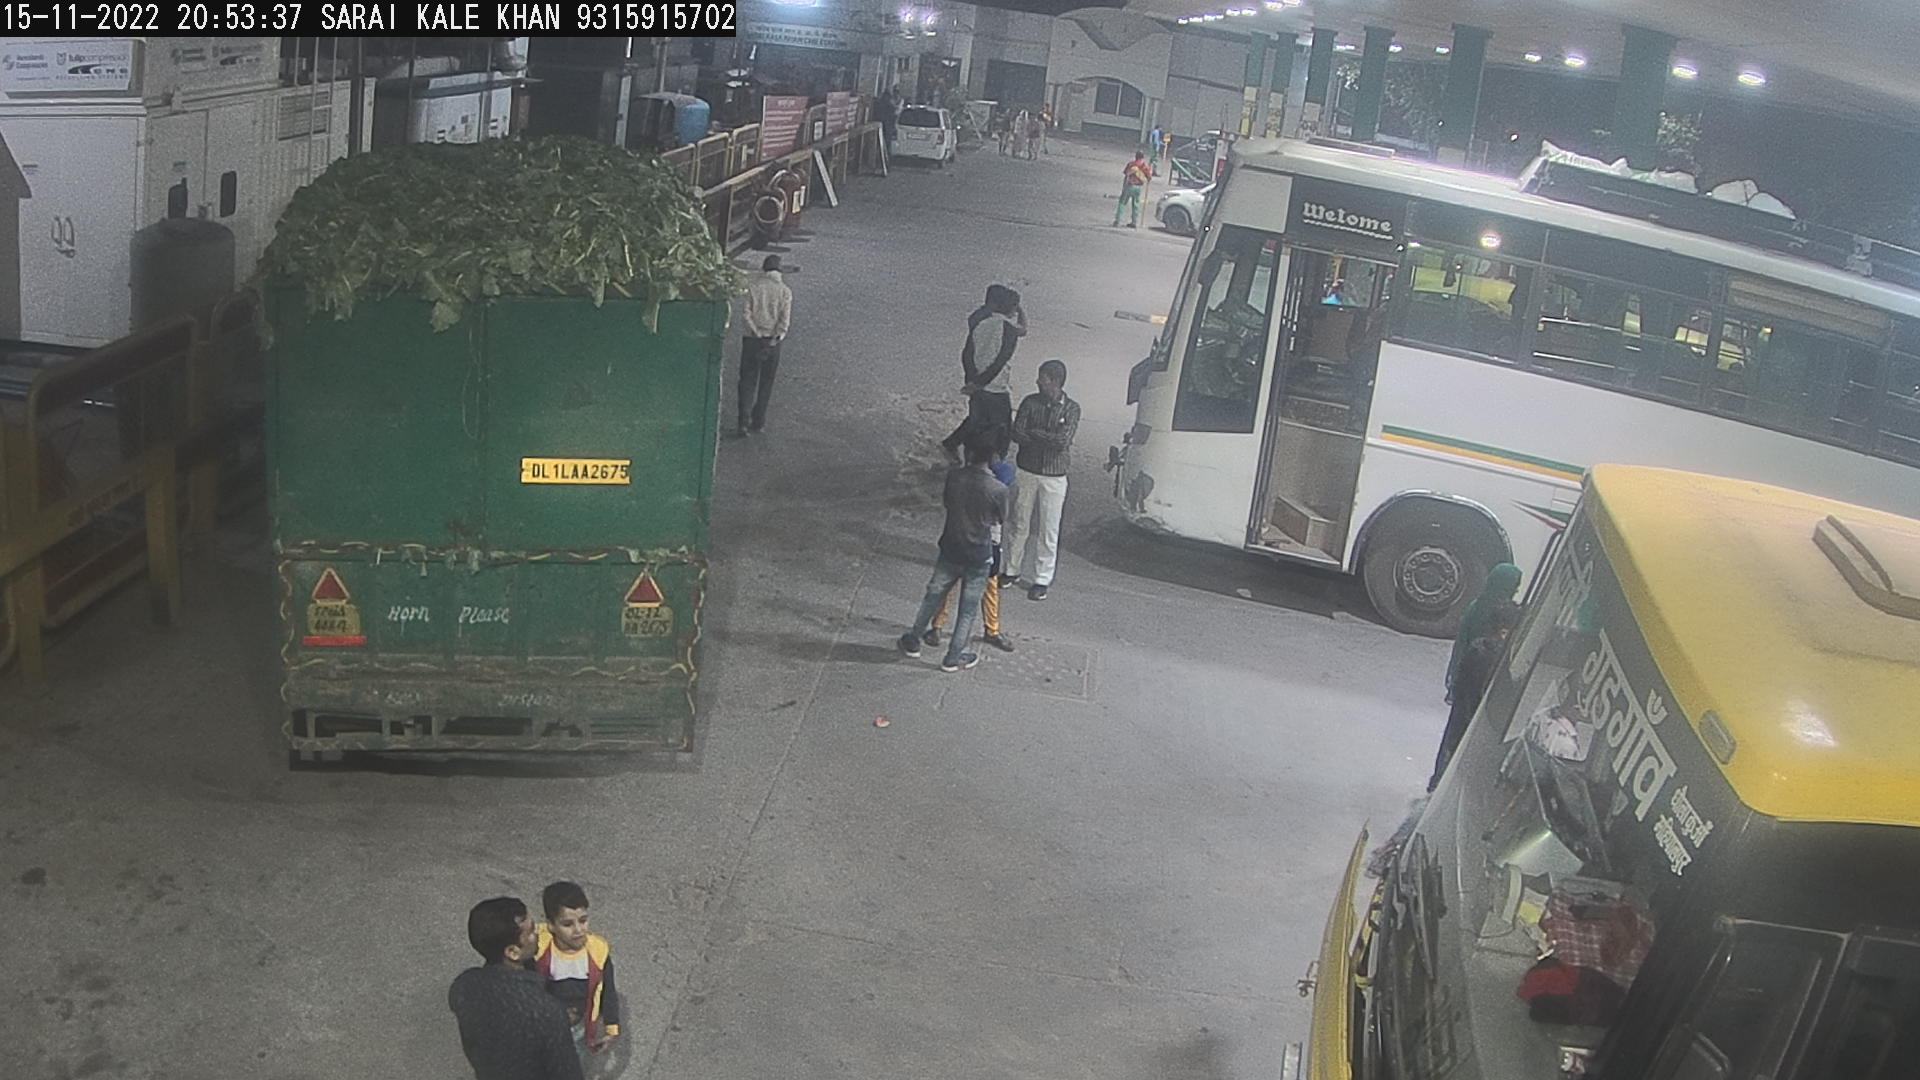Auto: (202, 95, 789, 808)
Car: (869, 90, 975, 179), (1147, 152, 1224, 251), (1160, 121, 1240, 187)
HMV: (1182, 426, 1917, 1071), (1092, 100, 1915, 622)
Others: (1102, 138, 1168, 236)
